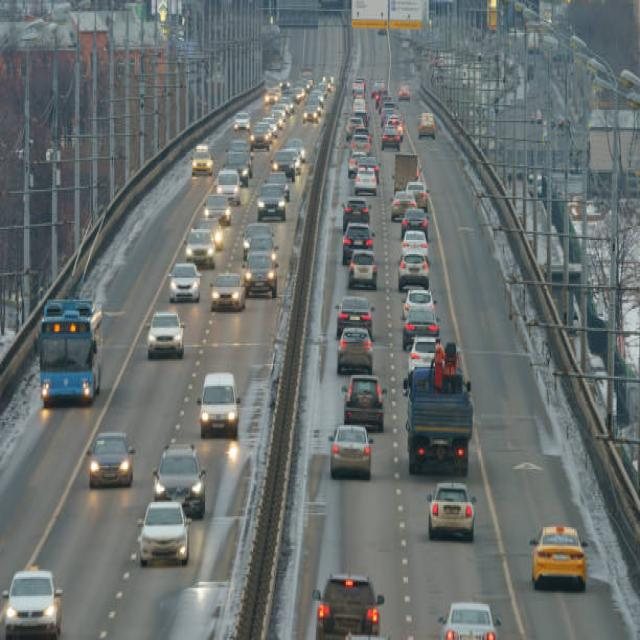16-Wheelers: (403, 364, 472, 475)
Bus: (38, 298, 102, 406)
Car: (312, 572, 384, 638), (0, 566, 63, 638), (528, 524, 587, 591), (426, 480, 476, 541), (86, 430, 135, 488), (437, 601, 501, 638)
